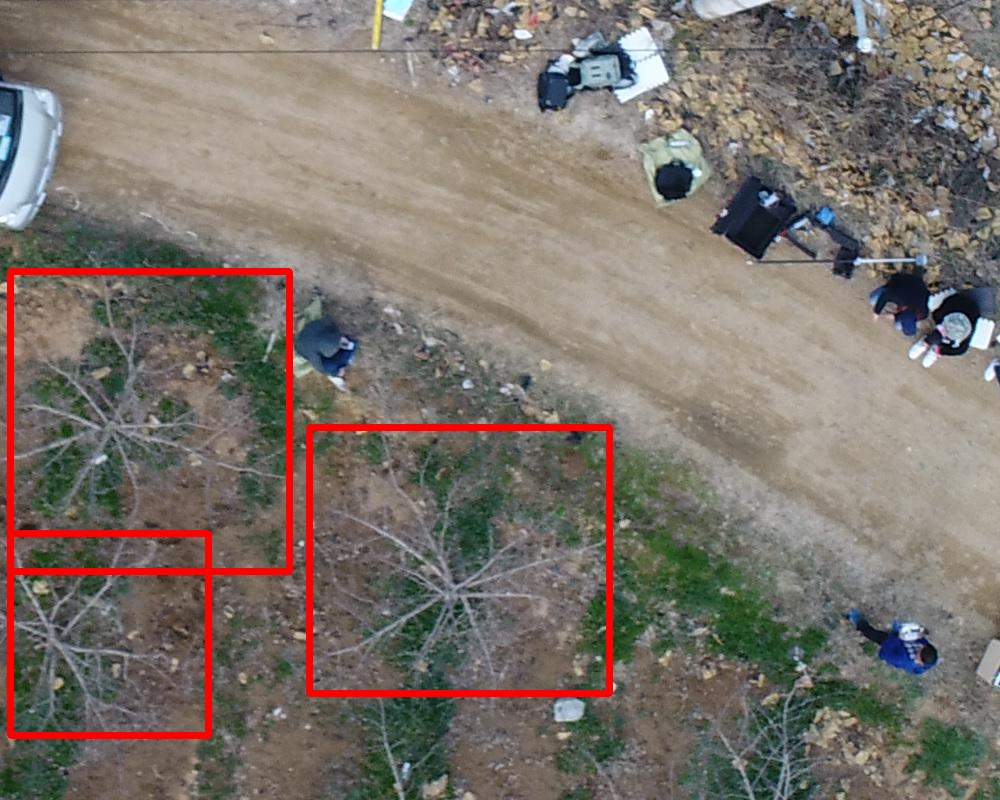apple: (10, 271, 289, 571), (309, 427, 609, 693), (10, 533, 208, 735)
